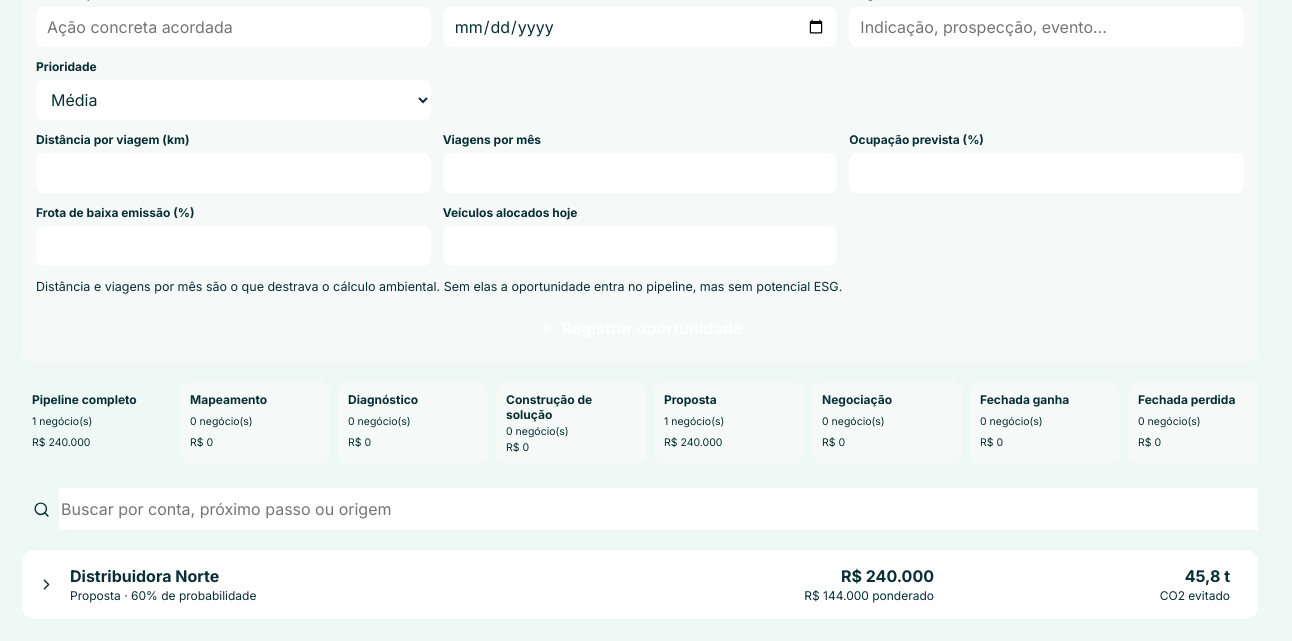
Test case: página de oportunidades › abre a oportunidade com potencial ESG, Green Score e próxima ação
(page scrolled)
Click the button "Distribuidora Norte" at (145, 576), box [22,550,1258,619]
(page scrolled)
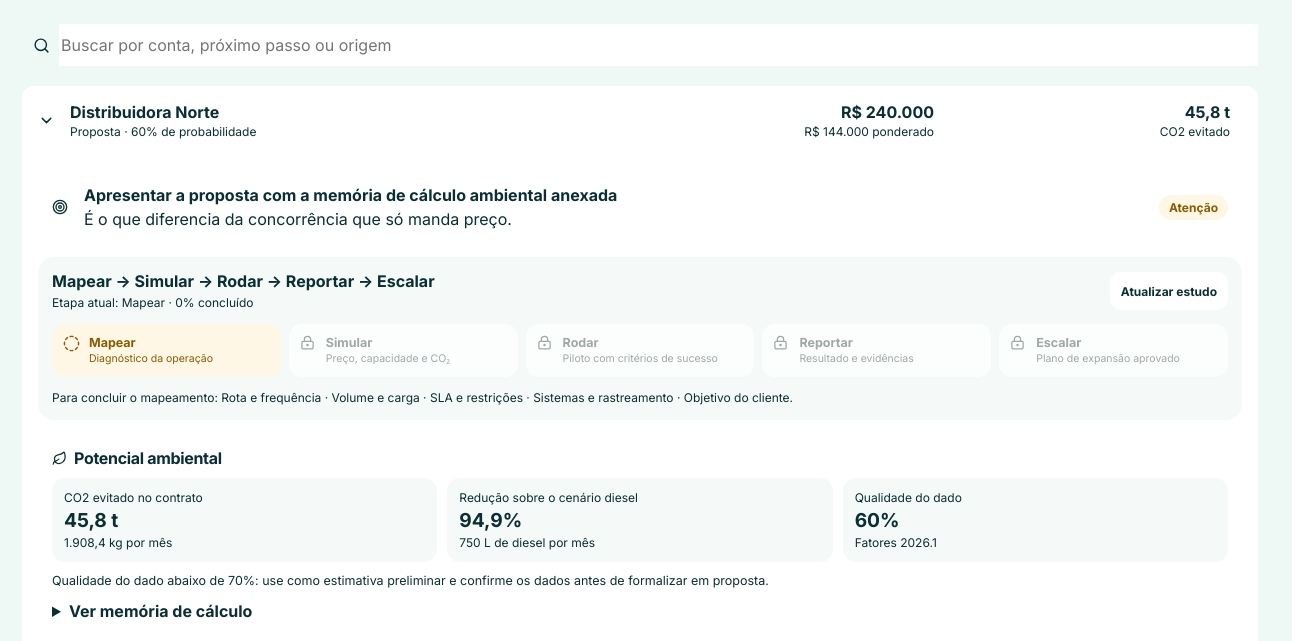
Check: the heading "Potencial ambiental" is shown, box [52,448,222,468]
Check: the heading "Ver memória de cálculo" is shown, box [69,601,252,621]
Check: the text "Mapear → Simular → Rodar → Reportar → Escalar" is shown, box [52,271,435,291]
